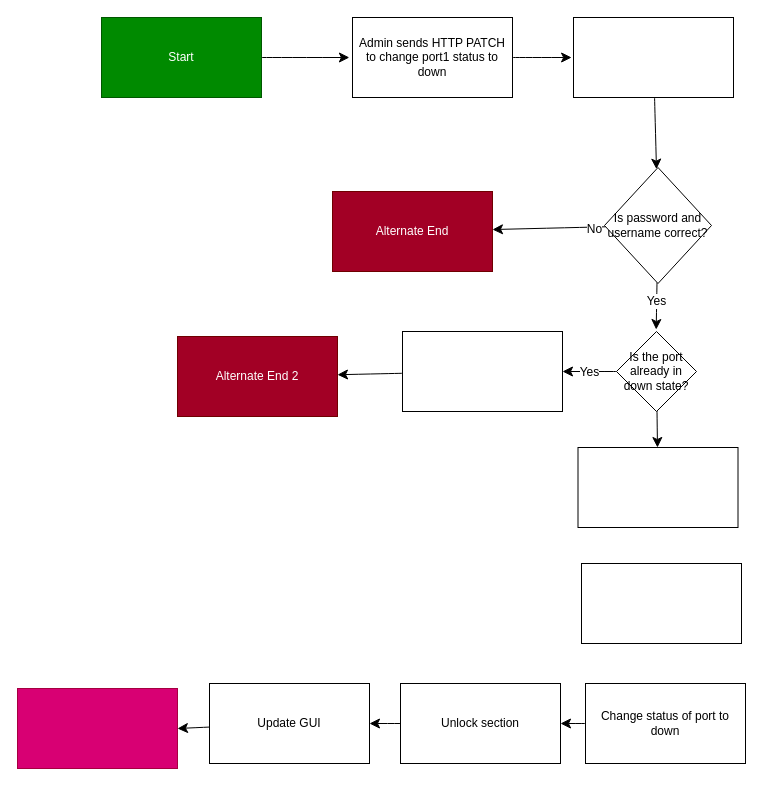
Image size: 763x786. Some labels were removed from this diagram. Here are the shapes that lost their labels. From the top down, the centre of each, then its label:
At [653,57]: "Check password and username".
At [482,371]: "Simply update gui but do not change anything".
At [657,487]: "Stop sniffing".
At [661,603]: "Lock section".
At [97,728]: "Good End".
